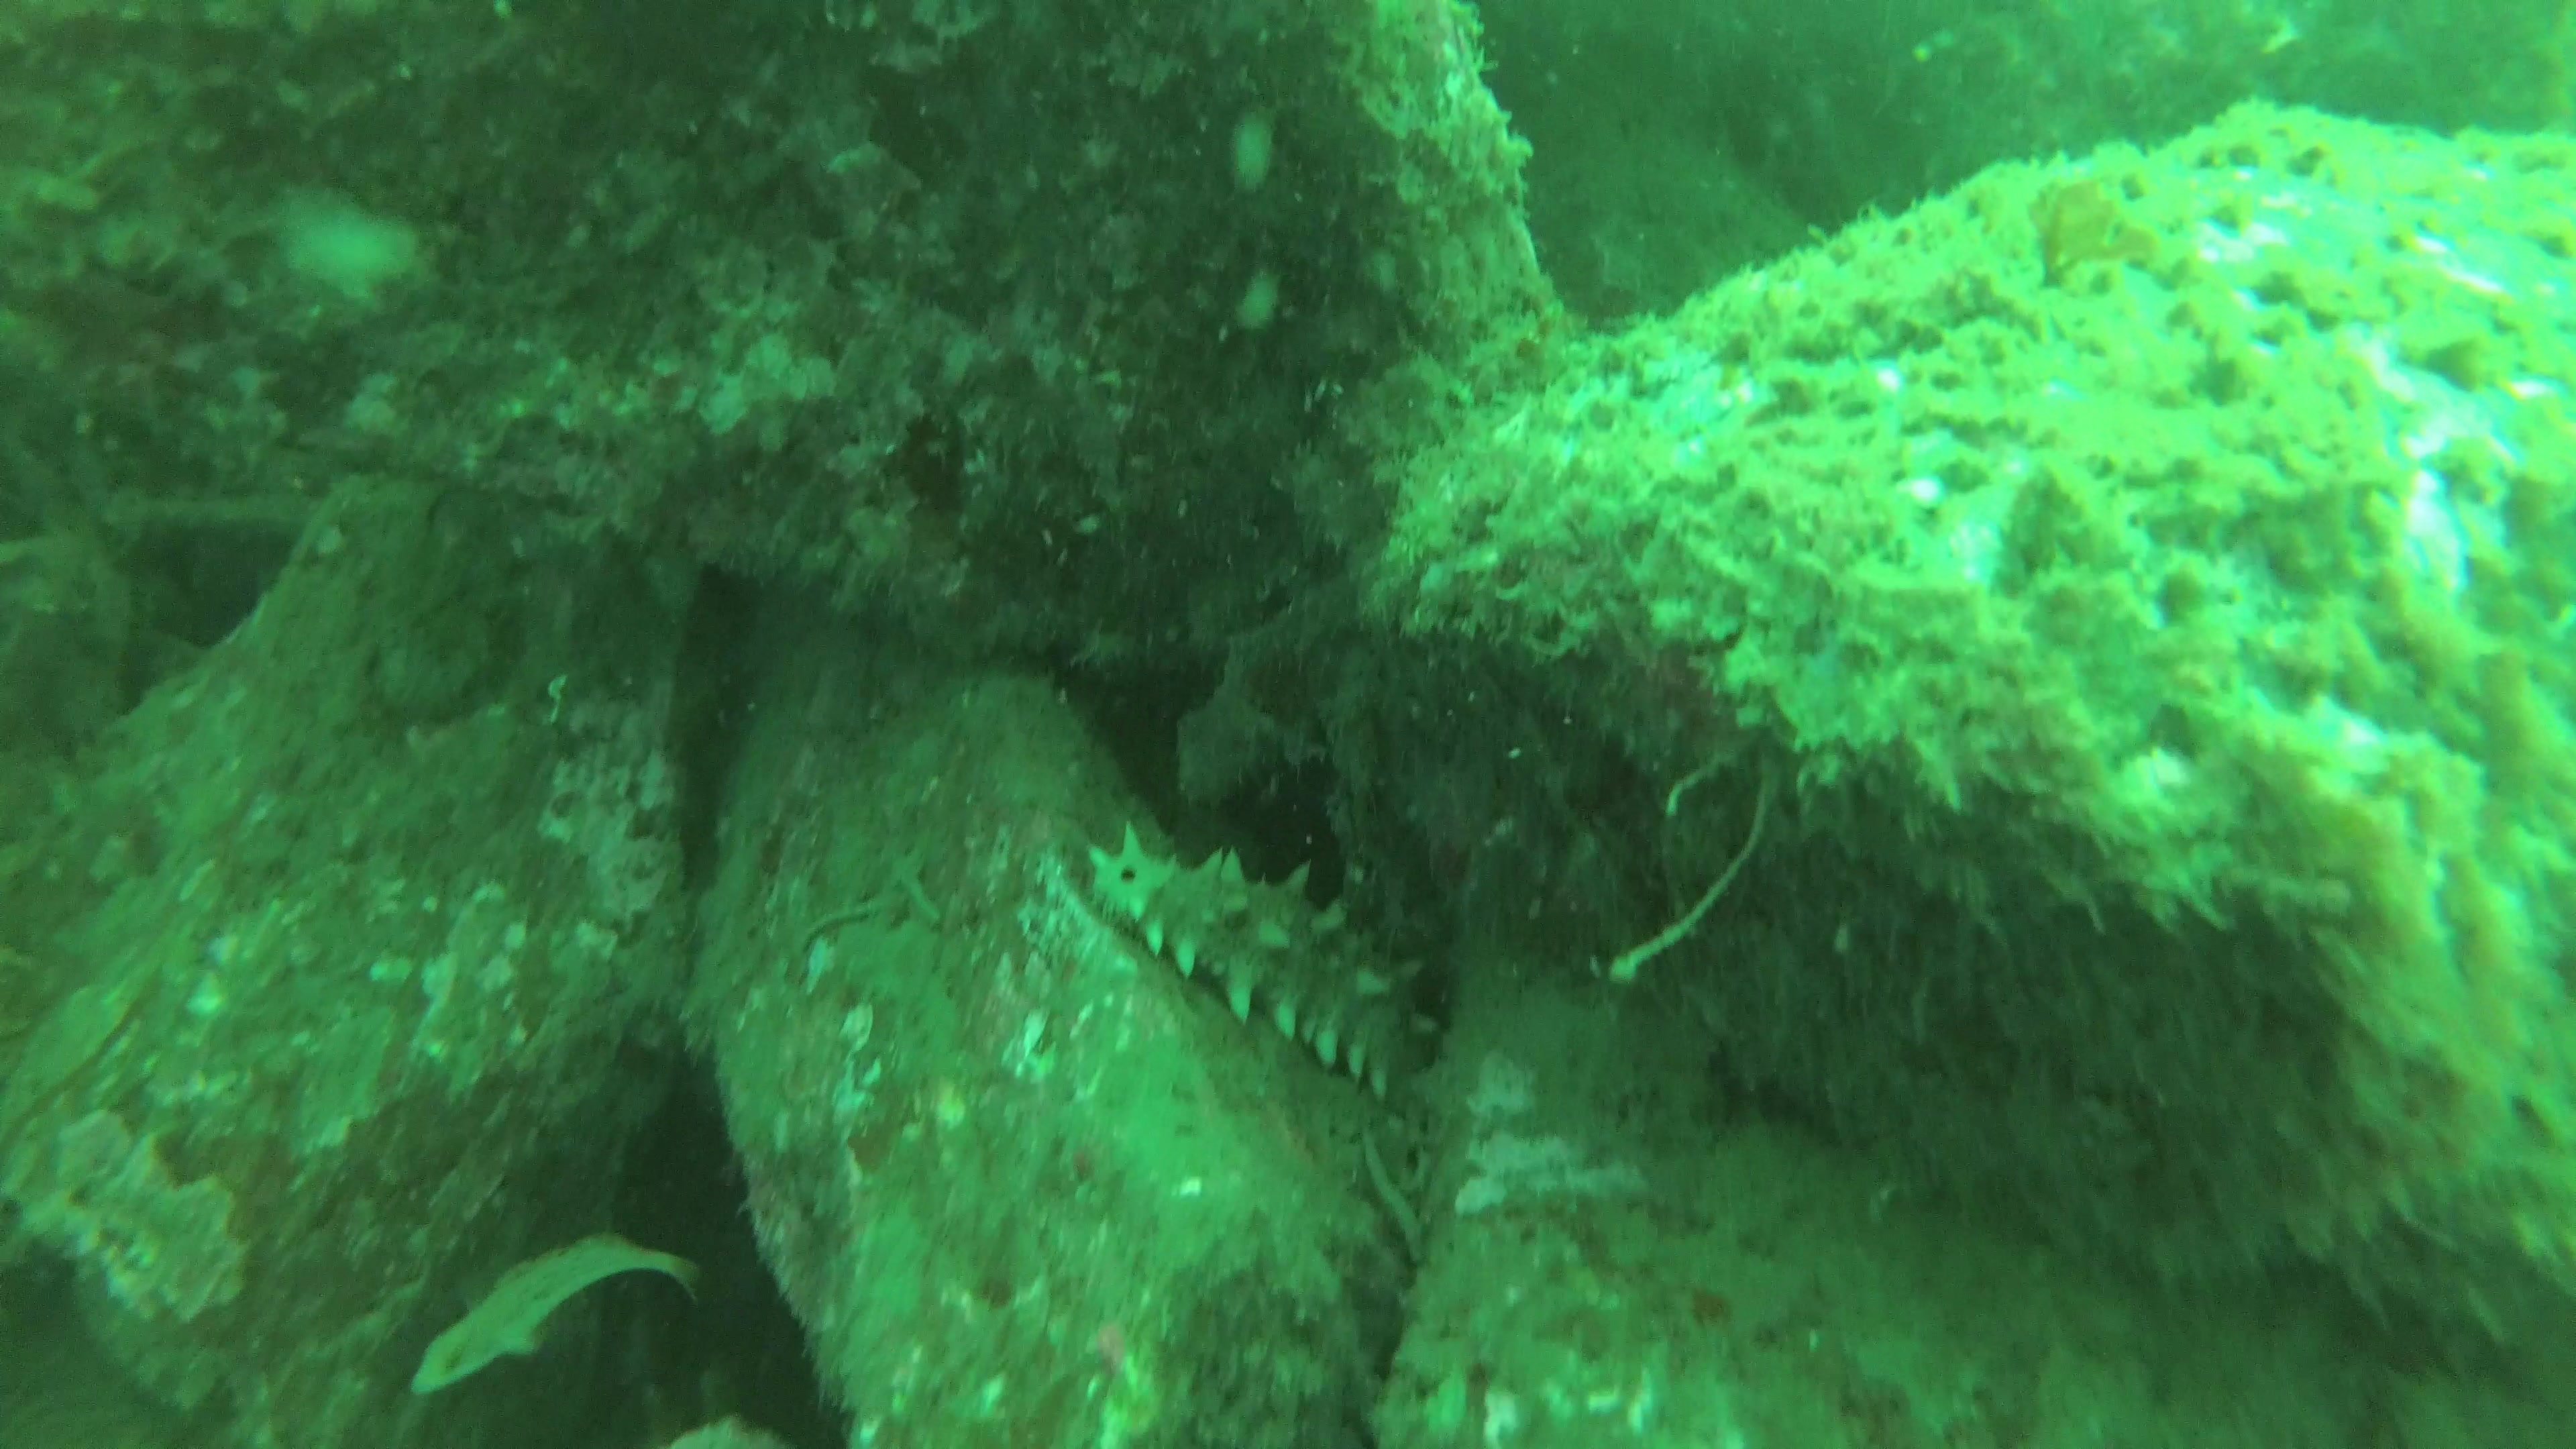holothurian: (1088, 819, 1442, 1108)
